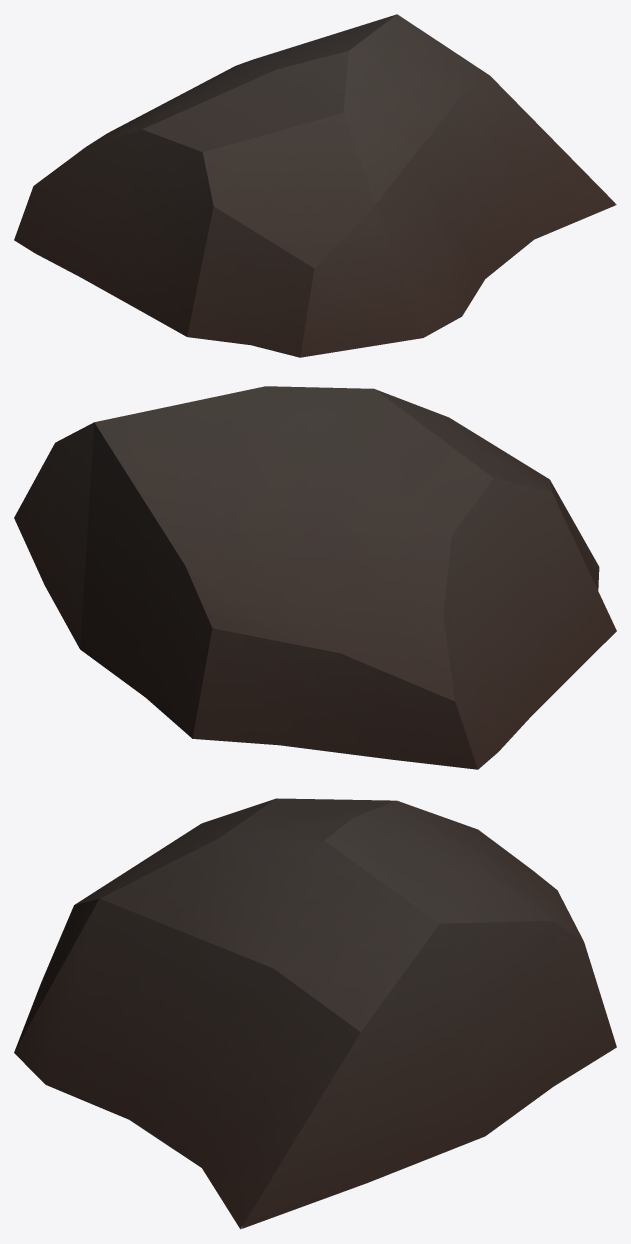
The model's file is Mountain_Stone_Dark_003.FBX.
The picture shows the model from 3 angles, top to bottom: view 1: azimuth 30°, elevation 25°; view 2: azimuth 150°, elevation 25°; view 3: azimuth 270°, elevation 25°; orthographic projection. The views are drawn at different scales.
Visible parts, largest first — view 1: Mountain_Stone_Dark_003; view 2: Mountain_Stone_Dark_003; view 3: Mountain_Stone_Dark_003.
Part boxes in pixels (<box>): Mountain_Stone_Dark_003: <box>14,14,616,357</box>; Mountain_Stone_Dark_003: <box>14,386,616,769</box>; Mountain_Stone_Dark_003: <box>14,798,616,1229</box>.
Bounding box in the file's own units: 588 × 215 × 489.
Materials: 1 (1 with a texture image).
